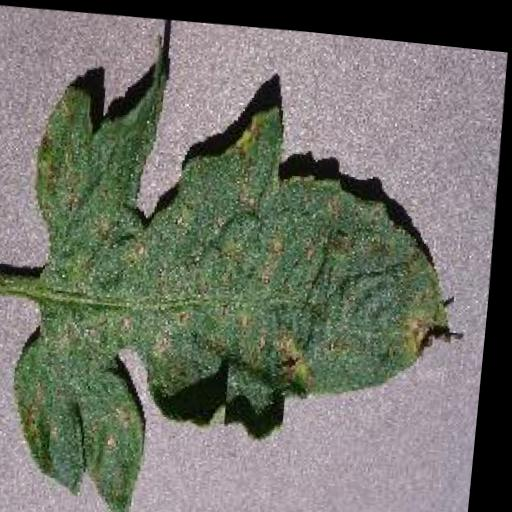Septoria: (7, 14, 499, 512)
